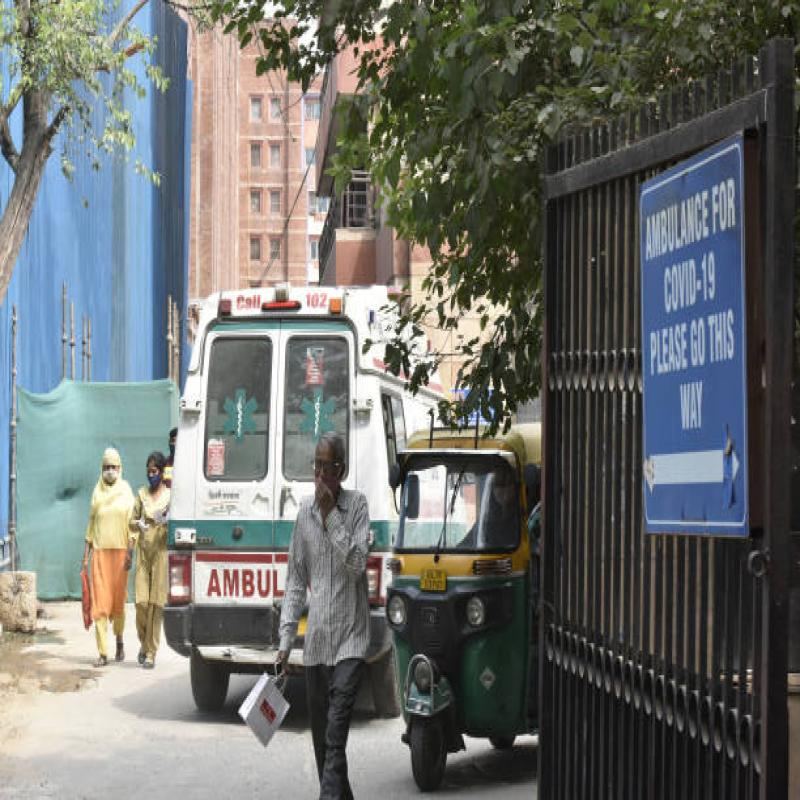ambulance: (184, 300, 293, 680)
